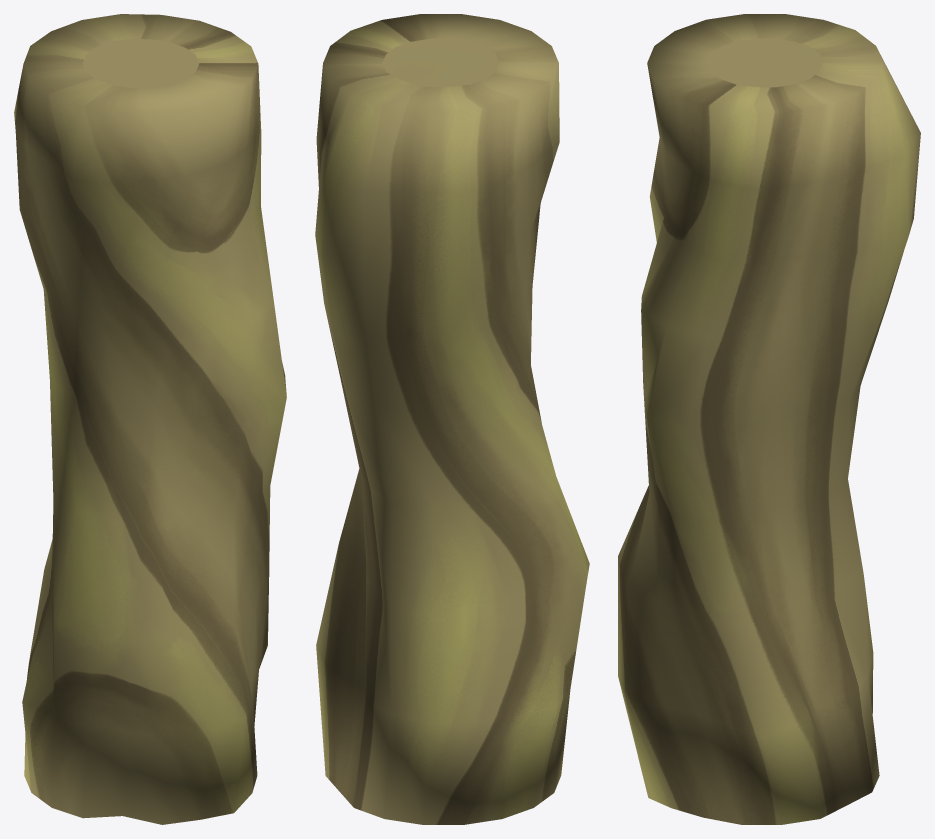
Rendered from FactoryPillar.fbx.
3 renders of one model, left to right at view 1: azimuth 30°, elevation 25°; view 2: azimuth 150°, elevation 25°; view 3: azimuth 270°, elevation 25°, orthographic.
Visible parts, largest first — view 1: FactoryPillar; view 2: FactoryPillar; view 3: FactoryPillar.
Part boxes in pixels (x1,y1,x2,y2): FactoryPillar: (14, 14, 286, 824); FactoryPillar: (315, 14, 589, 824); FactoryPillar: (618, 14, 920, 824).
Size of the model in its own units: 127 by 137 by 359.
